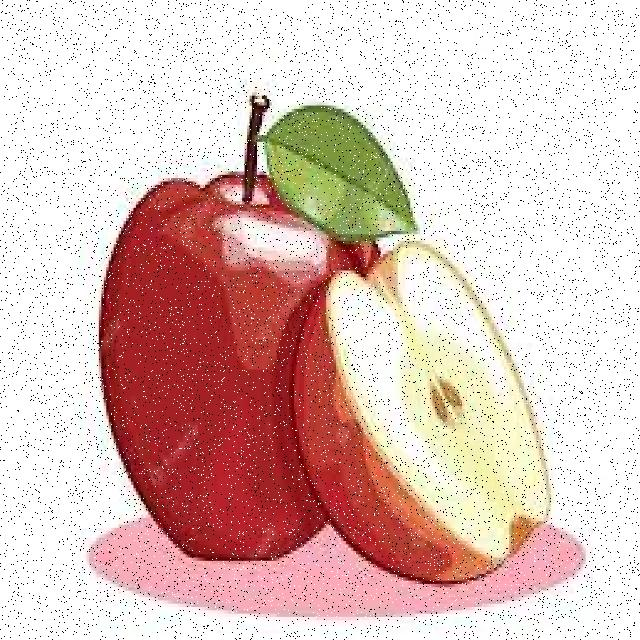Apple: (95, 160, 390, 566), (287, 239, 550, 589)
